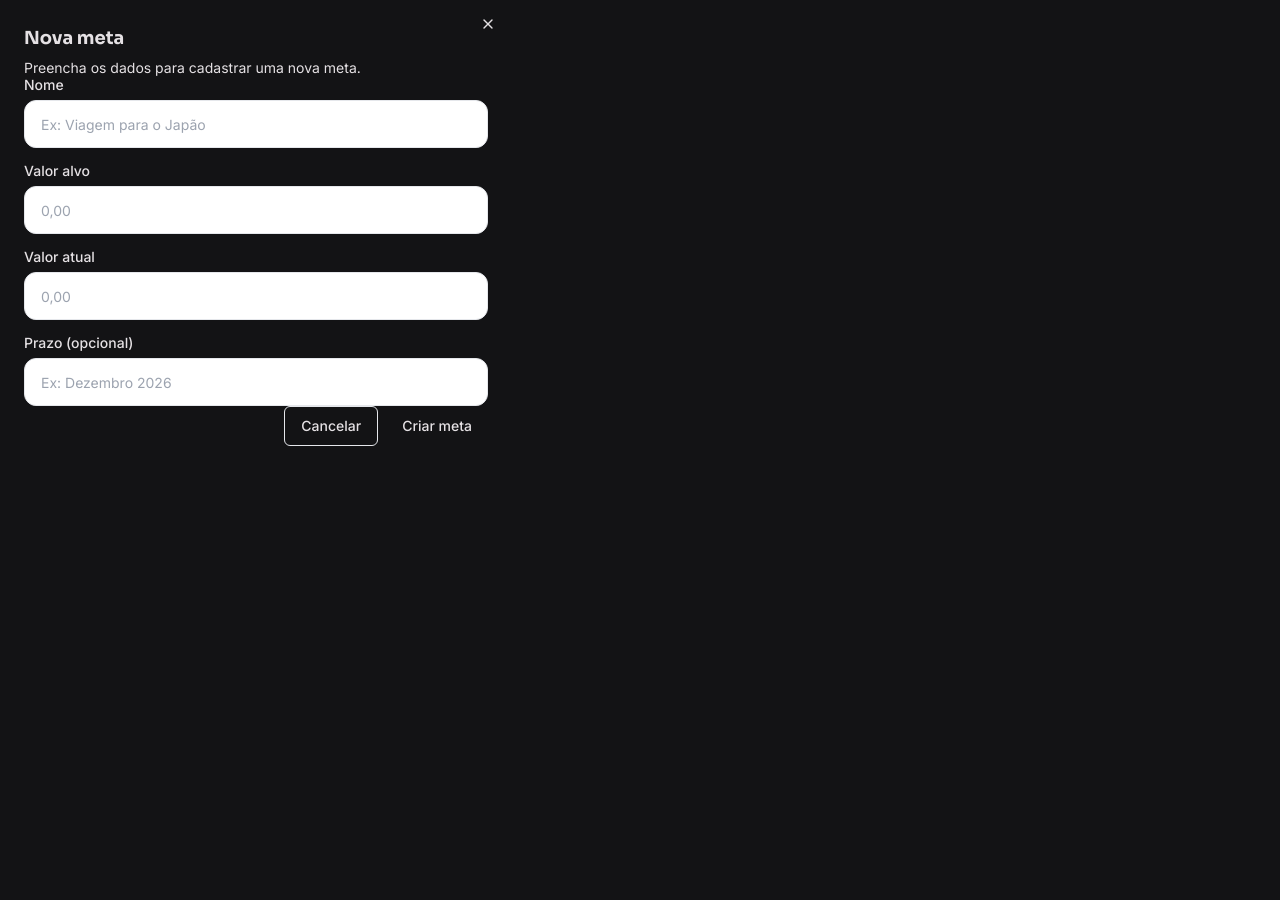
GoalFormDialog › shows a validation error when submitting an empty name
Type "1000" into the number field labelled "Valor alvo" at coordinates (256, 210), box left=24, top=186, right=488, bottom=234
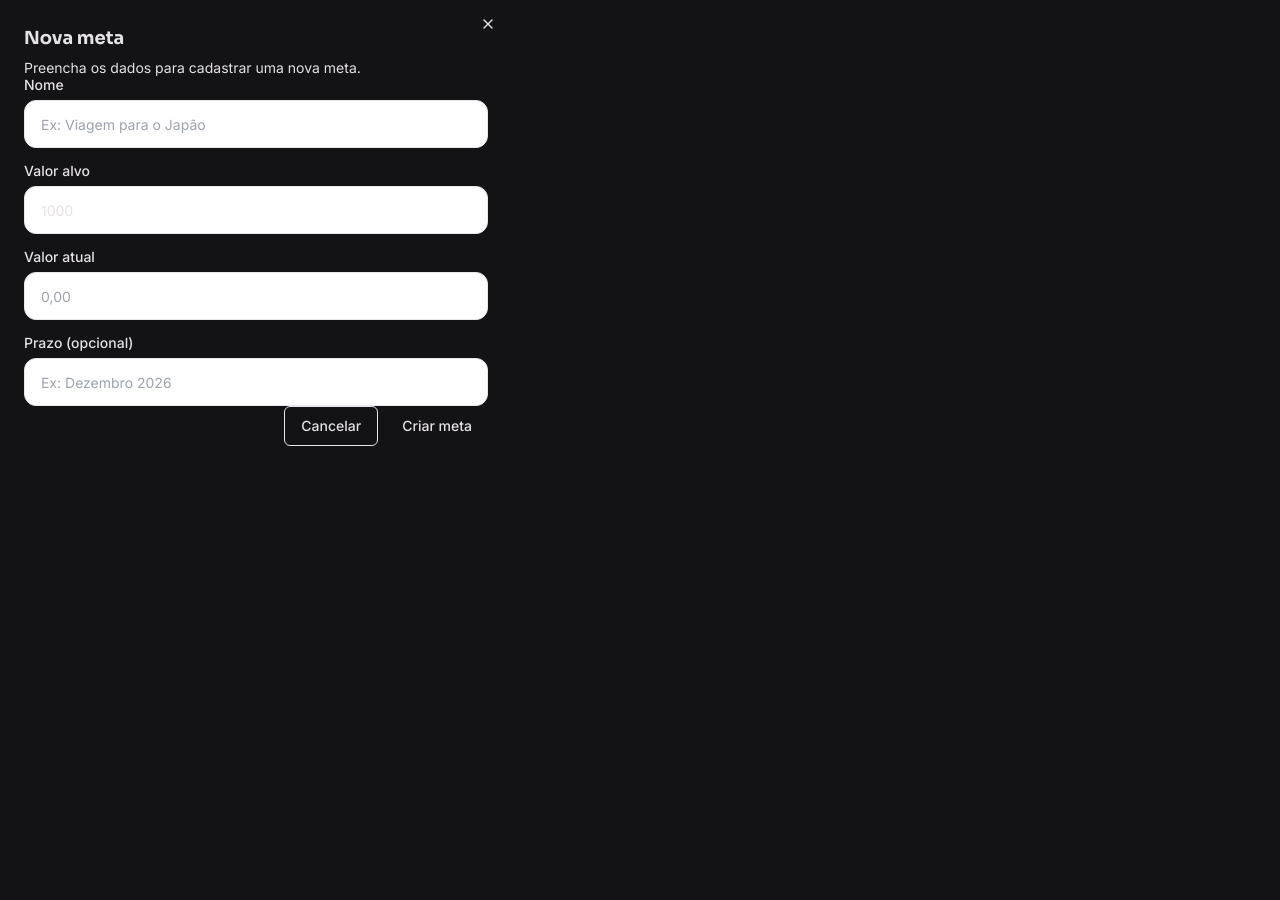
Click the button "Criar meta" at coordinates (437, 426), box left=386, top=406, right=488, bottom=446
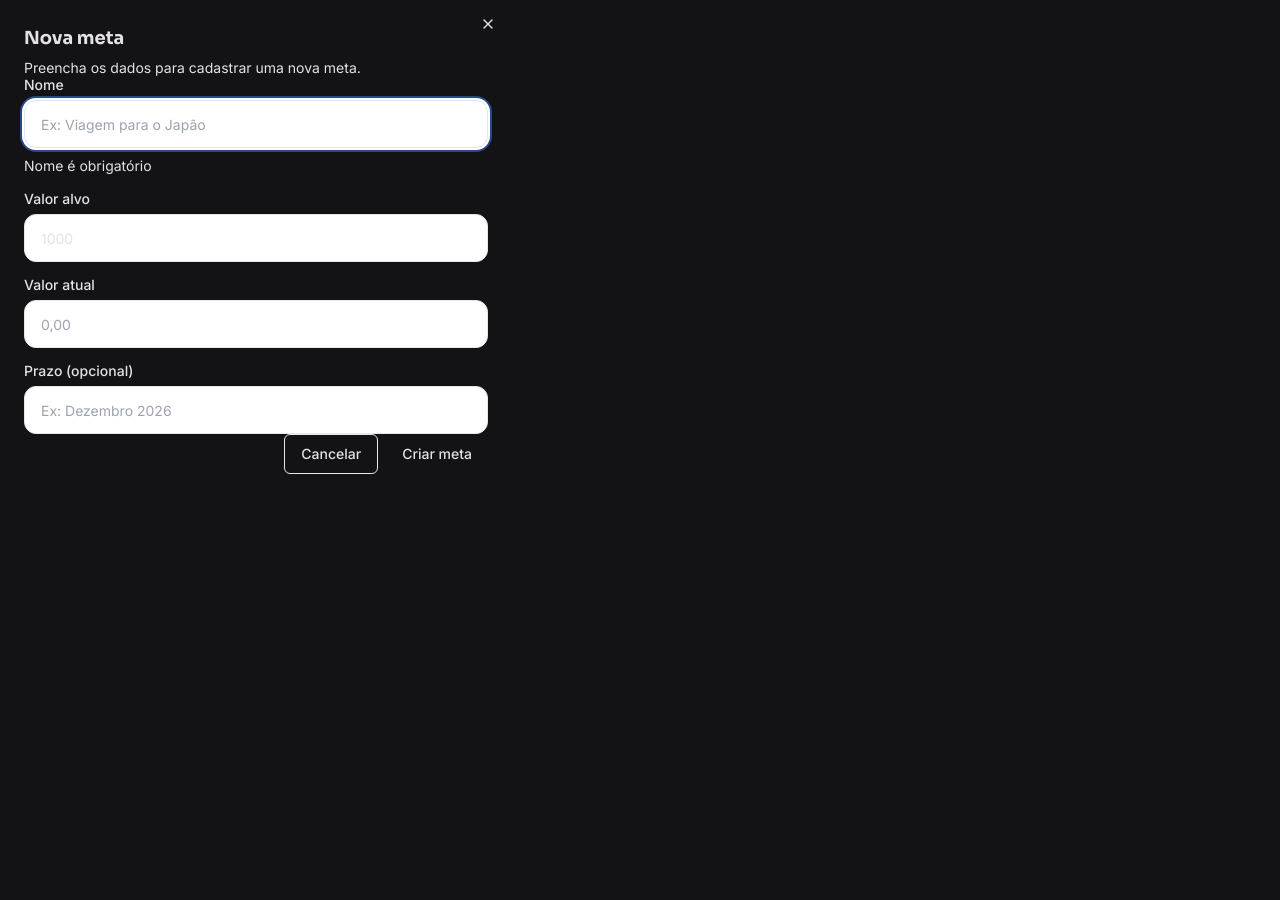
Expected: the text "Nome é obrigatório" is shown, left=24, top=157, right=152, bottom=174
